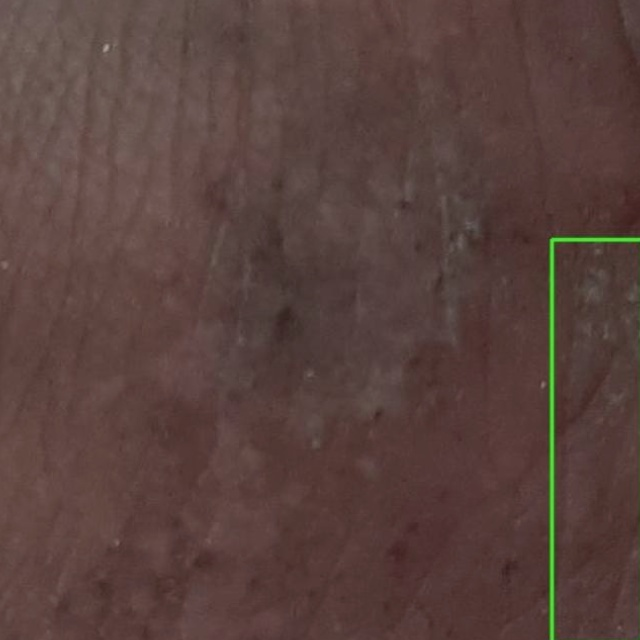Eczema: (552, 239, 639, 639)
